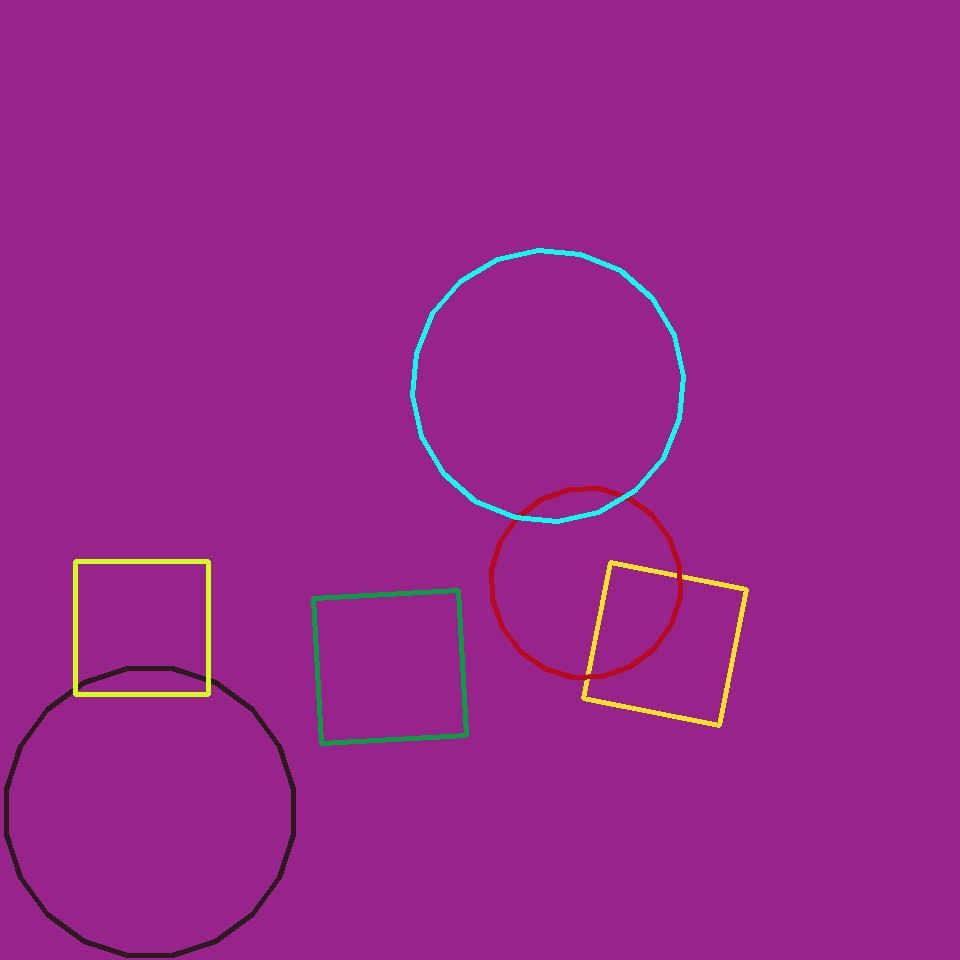square: (584, 562, 746, 725), (314, 590, 466, 744), (76, 562, 208, 694)
triangle: (7, 668, 294, 956), (412, 251, 684, 522), (492, 489, 680, 678)
